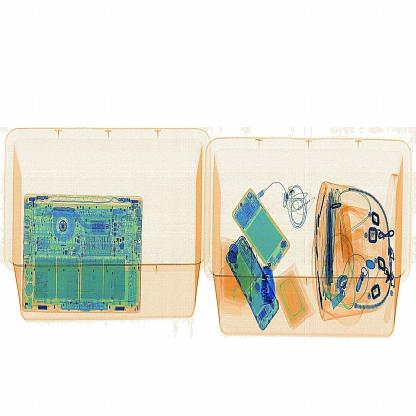scissors: (258, 260, 288, 315)
